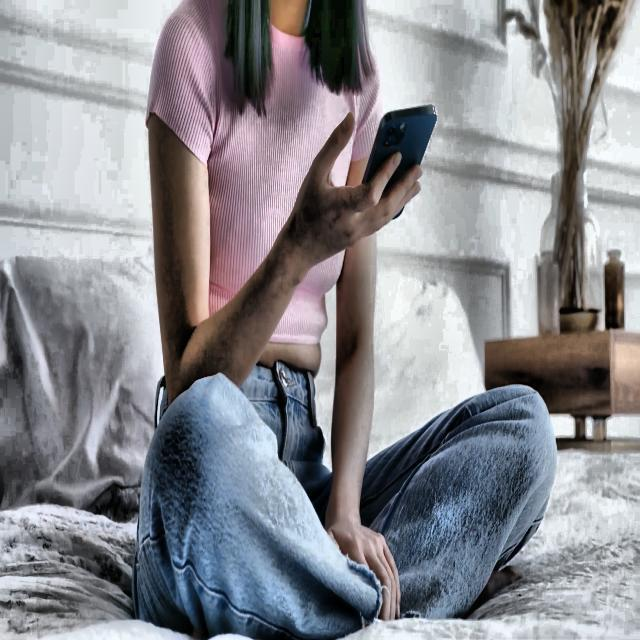Phone: (361, 101, 438, 224)
